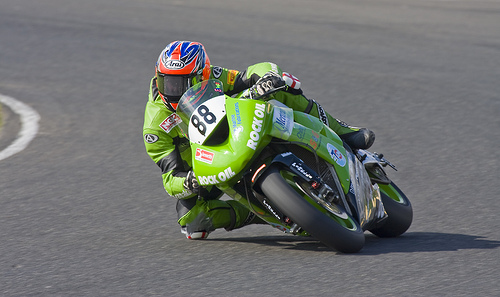helmet: (151, 47, 213, 98)
